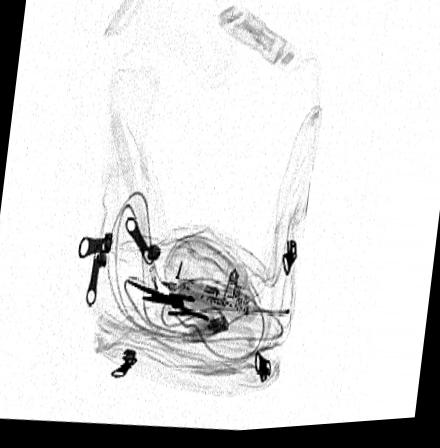Scissors: (122, 275, 212, 327)
